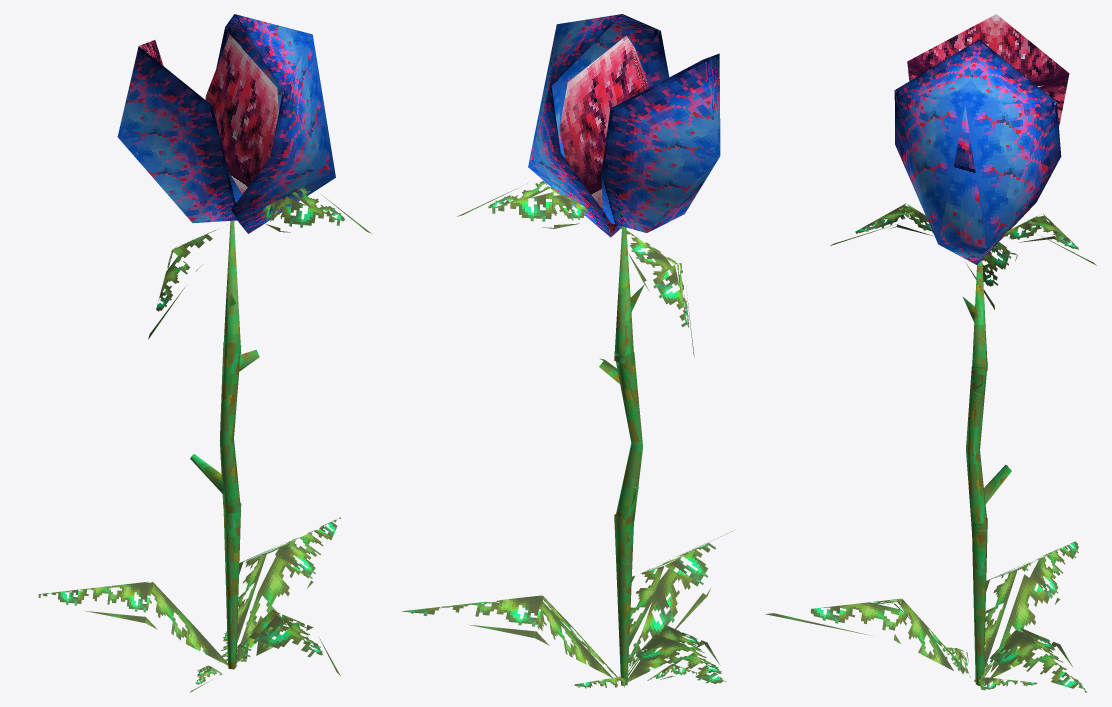
Rendered from Dekubaba.obj.
3 views of the same model, side by side, from view 1: azimuth 30°, elevation 25°; view 2: azimuth 150°, elevation 25°; view 3: azimuth 270°, elevation 25° (orthographic). The views are drawn at different scales.
Parts seen in each view (by area): view 1: Dekubaba; view 2: Dekubaba; view 3: Dekubaba.
Part boxes in pixels (box(x1,y1,x2,y2)): Dekubaba: box(38, 14, 371, 692); Dekubaba: box(402, 14, 734, 688); Dekubaba: box(765, 14, 1096, 692).
Size of the model in its own units: 4.33 by 8.27 by 3.87.
Materials: 4 (4 with a texture image).
